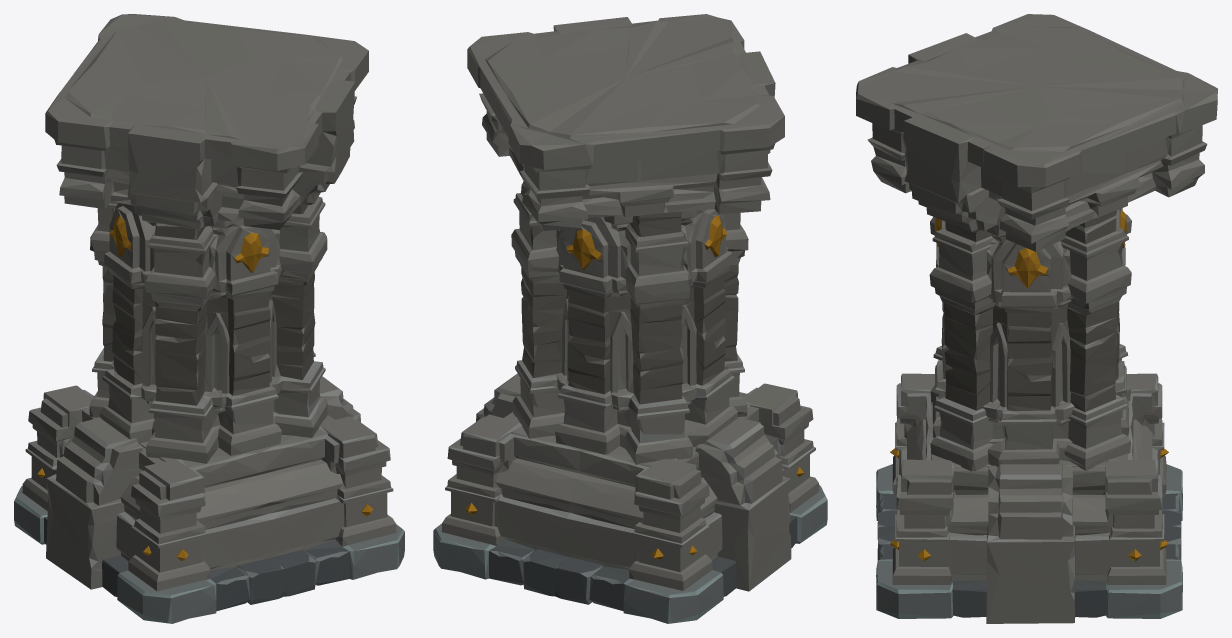
Rendered from MDungeons_PillarShort_Med_01.FBX.
The picture shows the model from 3 angles, left to right: view 1: azimuth 30°, elevation 25°; view 2: azimuth 150°, elevation 25°; view 3: azimuth 270°, elevation 25°; orthographic projection.
Visible parts, largest first — view 1: MDungeons_PillarShort_Med_01_LOD0; view 2: MDungeons_PillarShort_Med_01_LOD0; view 3: MDungeons_PillarShort_Med_01_LOD0.
Part boxes in pixels (left/top/right/bottom): MDungeons_PillarShort_Med_01_LOD0: left=14, top=14, right=404, bottom=623; MDungeons_PillarShort_Med_01_LOD0: left=433, top=14, right=827, bottom=623; MDungeons_PillarShort_Med_01_LOD0: left=856, top=14, right=1217, bottom=623.
Size of what is drawn, in the model's own units: 7.02 by 10.16 by 7.08.
